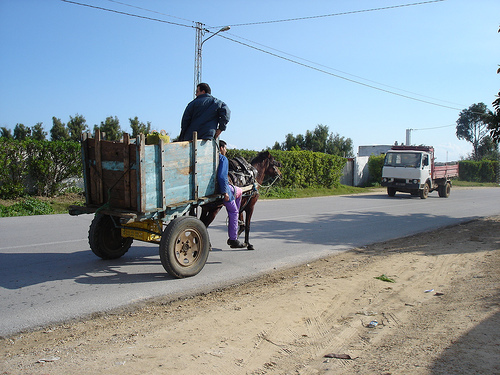horse: (199, 151, 287, 252)
